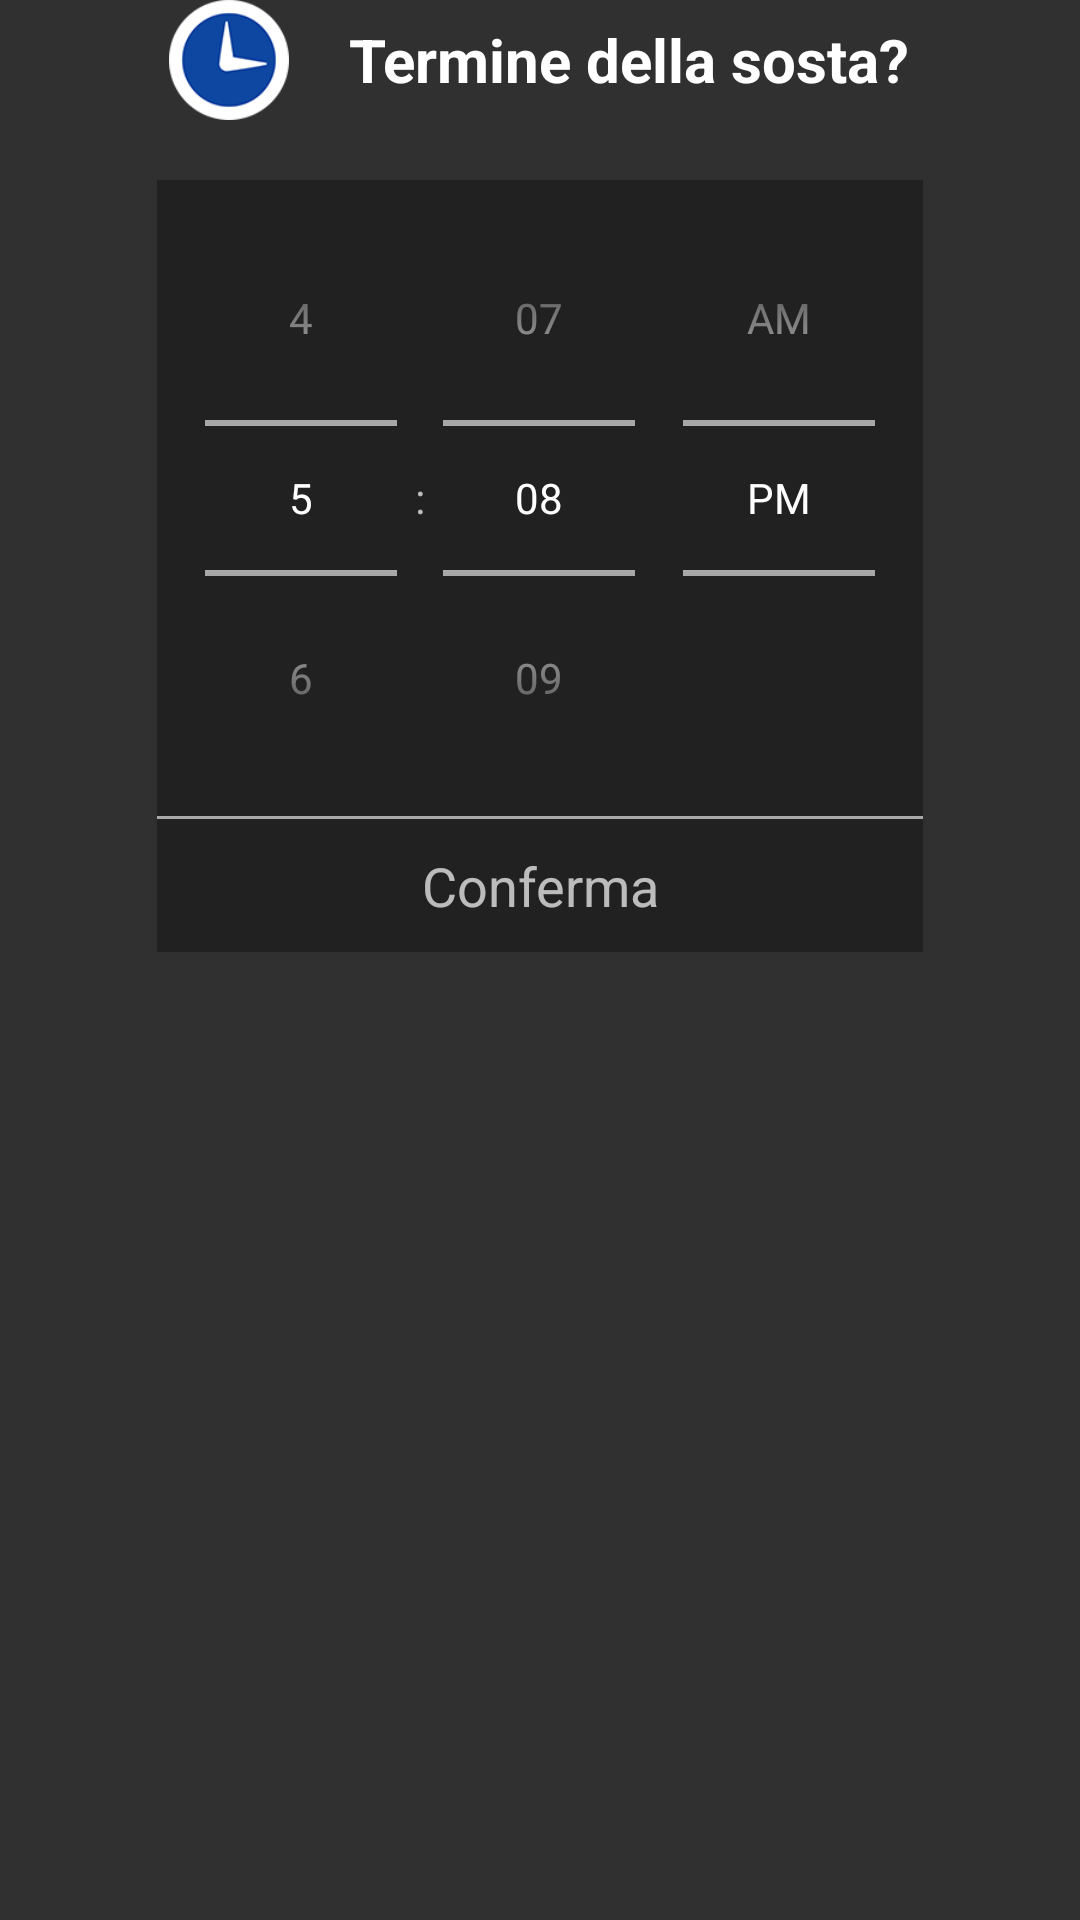

Point at icon controls on the screen. Image size 1080w x 1920h, points as (x=x, y=y).
time: (x=229, y=60)
